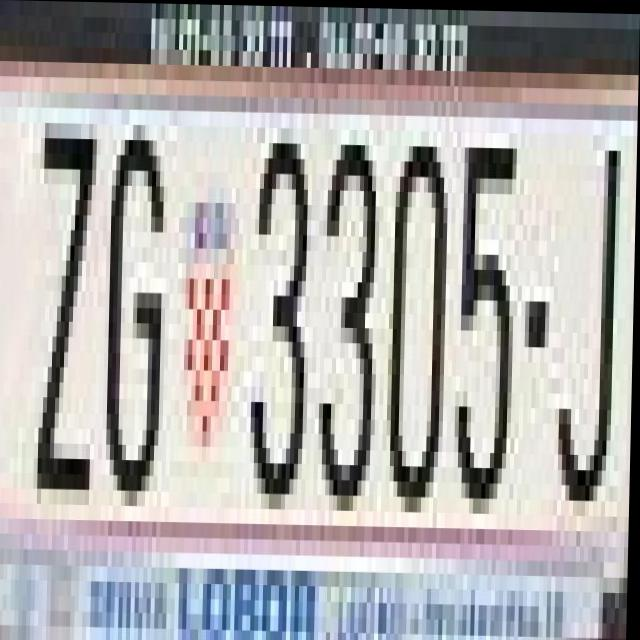0: (391, 98, 450, 511)
3: (315, 97, 382, 494), (251, 96, 310, 508)
5: (451, 115, 518, 497)
G: (103, 93, 178, 506)
Z: (35, 92, 102, 489)
